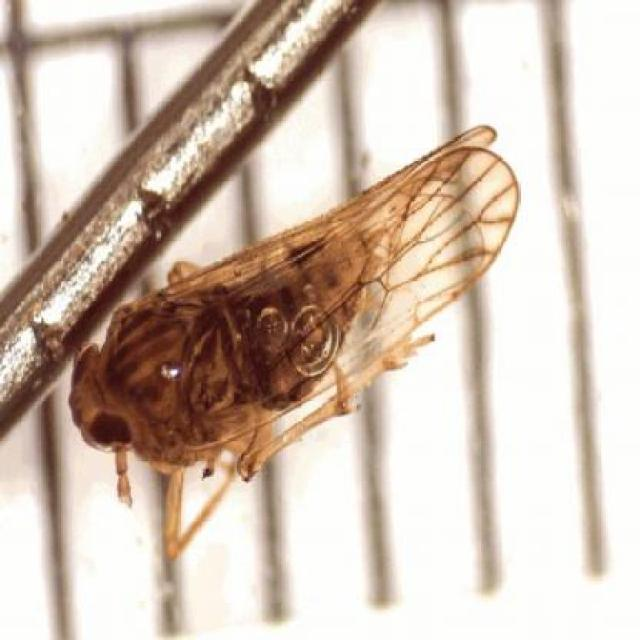brown-planthopper: (68, 124, 521, 484)
